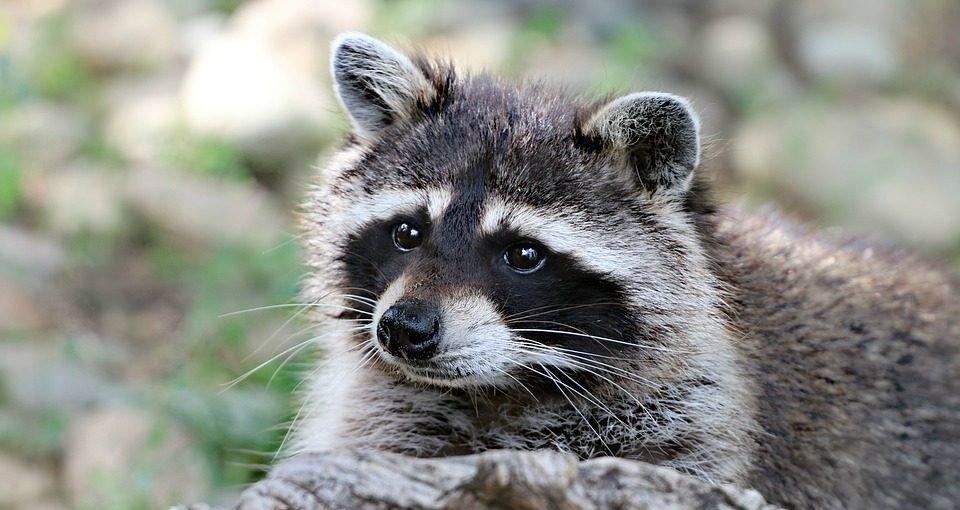raccoon: (295, 34, 960, 510)
